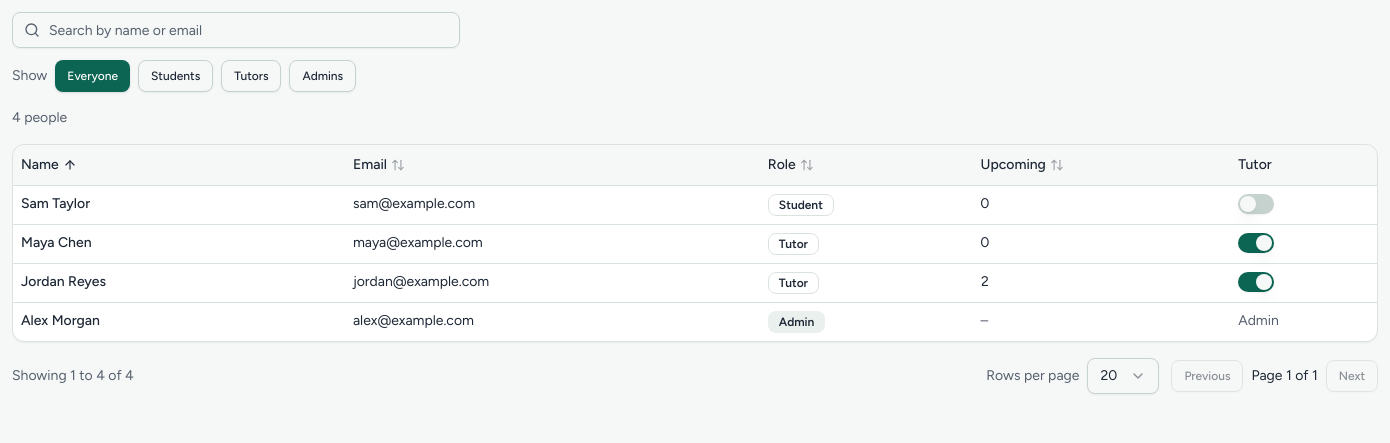
Scenario: turning someone into a tutor › promotes a student, says so, and loads the table again
Expected: the cell "Sam Taylor" is shown, [13,186,345,224]
Step 1. Click the switch named "Tutor: Sam Taylor" → (1256, 204), box [1238,194,1274,214]
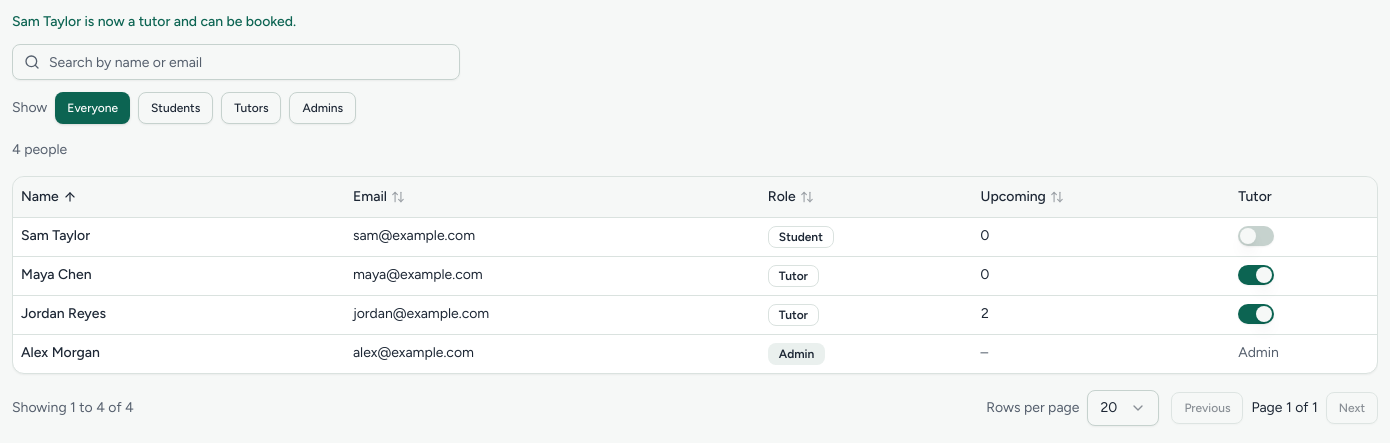
Expected: the text "Sam Taylor is now a tutor and can be booked." is shown, [12,13,296,30]
